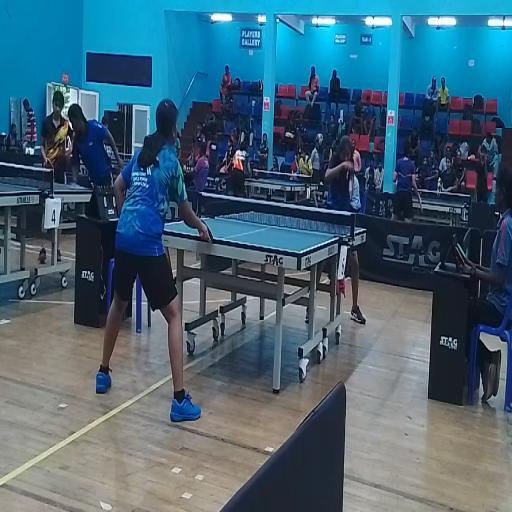ball: (349, 180, 352, 193)
